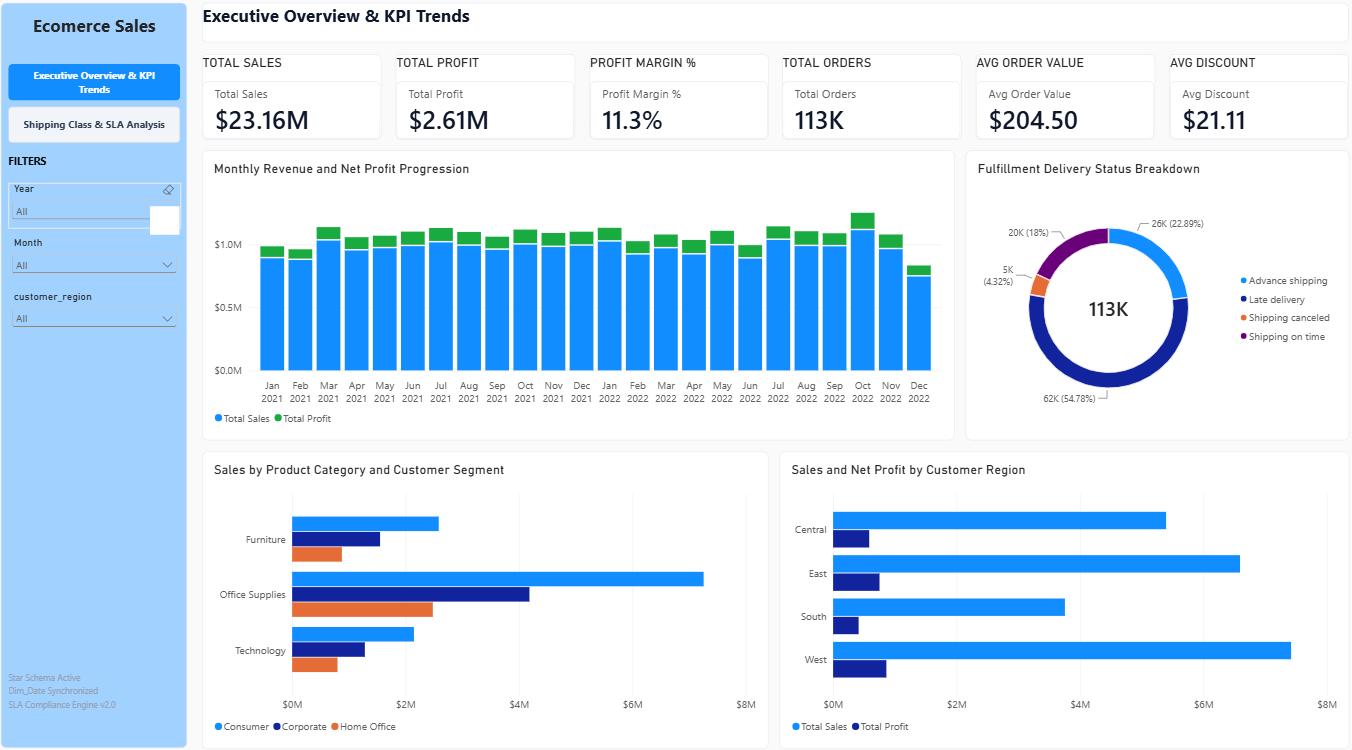

This screenshot's page, from the dashboard's own definition file:
{"tool":"powerbi","page":{"name":"Executive Overview & KPI Trends","canvas":[1920,1080],"ordinal":0},"visuals":[{"type":"textbox","box":[20,20,260,1040],"z":100},{"type":"textbox","box":[30,35,240,55],"z":500},{"type":"textbox","box":[30,230,240,30],"z":500},{"type":"textbox","box":[30,950,240,90],"z":500},{"type":"textbox","box":[300,20,1600,55],"z":1000},{"type":"pageNavigator","box":[30,105,240,110],"z":1000},{"type":"slicer","fields":{"Values":["Dim_Date.Year"]},"box":[30,270,240,65],"z":1000},{"type":"slicer","fields":{"Values":["Dim_Date.Month"]},"box":[30,345,240,65],"z":1000},{"type":"slicer","fields":{"Values":["ecommerce_data.customer_region"]},"box":[30,420,240,65],"z":1000},{"type":"cardVisual","title":"TOTAL SALES","fields":{"Data":["ecommerce_data.Total Sales"]},"box":[300,90,250,120],"z":2000},{"type":"cardVisual","title":"TOTAL PROFIT","fields":{"Data":["ecommerce_data.Total Profit"]},"box":[570,90,250,120],"z":2000},{"type":"cardVisual","title":"PROFIT MARGIN %","fields":{"Data":["ecommerce_data.Profit Margin %"]},"box":[840,90,250,120],"z":2000},{"type":"cardVisual","title":"TOTAL ORDERS","fields":{"Data":["ecommerce_data.Total Orders"]},"box":[1110,90,250,120],"z":2000},{"type":"cardVisual","title":"AVG ORDER VALUE","fields":{"Data":["ecommerce_data.Avg Order Value"]},"box":[1380,90,250,120],"z":2000},{"type":"cardVisual","title":"AVG DISCOUNT","fields":{"Data":["ecommerce_data.Avg Discount"]},"box":[1650,90,250,120],"z":2000},{"type":"columnChart","title":"Monthly Revenue and Net Profit Progression","fields":{"Category":["Dim_Date.MonthYear"],"Y":["ecommerce_data.Total Sales","ecommerce_data.Total Profit"]},"box":[300,225,1050,405],"z":3000},{"type":"donutChart","title":"Fulfillment Delivery Status Breakdown","fields":{"Category":["ecommerce_data.delivery_status"],"Y":["ecommerce_data.Total Orders"]},"box":[1365,225,535,405],"z":3000},{"type":"clusteredBarChart","title":"Sales by Product Category and Customer Segment","fields":{"Category":["ecommerce_data.category_name"],"Series":["ecommerce_data.customer_segment"],"Y":["ecommerce_data.Total Sales"]},"box":[300,645,790,415],"z":3000},{"type":"clusteredBarChart","title":"Sales and Net Profit by Customer Region","fields":{"Category":["ecommerce_data.customer_region"],"Y":["ecommerce_data.Total Sales","ecommerce_data.Total Profit"]},"box":[1105,645,795,415],"z":3000}]}

Visuals, with their boxes in screenshot pixels (x1, y1, x2, y2), scaled from the page's 1920x1080 canvas onto the 1352x750 screenshot:
textbox: bbox=(14, 14, 197, 736)
textbox: bbox=(21, 24, 190, 62)
textbox: bbox=(21, 160, 190, 181)
textbox: bbox=(21, 660, 190, 722)
textbox: bbox=(211, 14, 1338, 52)
pageNavigator: bbox=(21, 73, 190, 149)
slicer - Dim_Date.Year: bbox=(21, 188, 190, 233)
slicer - Dim_Date.Month: bbox=(21, 240, 190, 285)
slicer - ecommerce_data.customer_region: bbox=(21, 292, 190, 337)
"TOTAL SALES" cardVisual: bbox=(211, 62, 387, 146)
"TOTAL PROFIT" cardVisual: bbox=(401, 62, 577, 146)
"PROFIT MARGIN %" cardVisual: bbox=(592, 62, 768, 146)
"TOTAL ORDERS" cardVisual: bbox=(782, 62, 958, 146)
"AVG ORDER VALUE" cardVisual: bbox=(972, 62, 1148, 146)
"AVG DISCOUNT" cardVisual: bbox=(1162, 62, 1338, 146)
"Monthly Revenue and Net Profit Progression" columnChart: bbox=(211, 156, 951, 438)
"Fulfillment Delivery Status Breakdown" donutChart: bbox=(961, 156, 1338, 438)
"Sales by Product Category and Customer Segment" clusteredBarChart: bbox=(211, 448, 768, 736)
"Sales and Net Profit by Customer Region" clusteredBarChart: bbox=(778, 448, 1338, 736)
